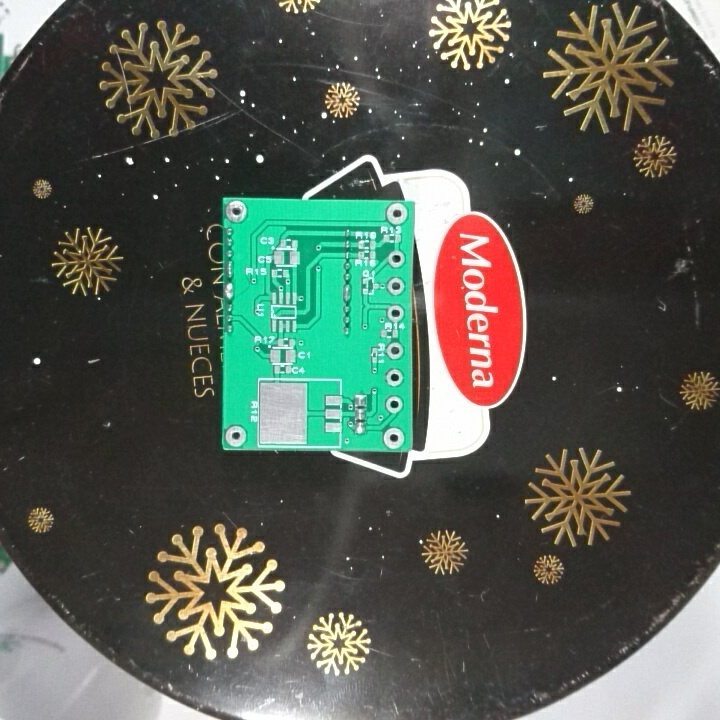F: (382, 199, 411, 226), (224, 198, 250, 226), (380, 424, 406, 451), (224, 421, 248, 447), (382, 340, 405, 363), (385, 246, 406, 269), (384, 275, 405, 298), (382, 394, 405, 415), (384, 367, 404, 389), (385, 302, 404, 323)
P: (222, 257, 237, 280), (339, 283, 355, 303), (224, 282, 237, 300)
